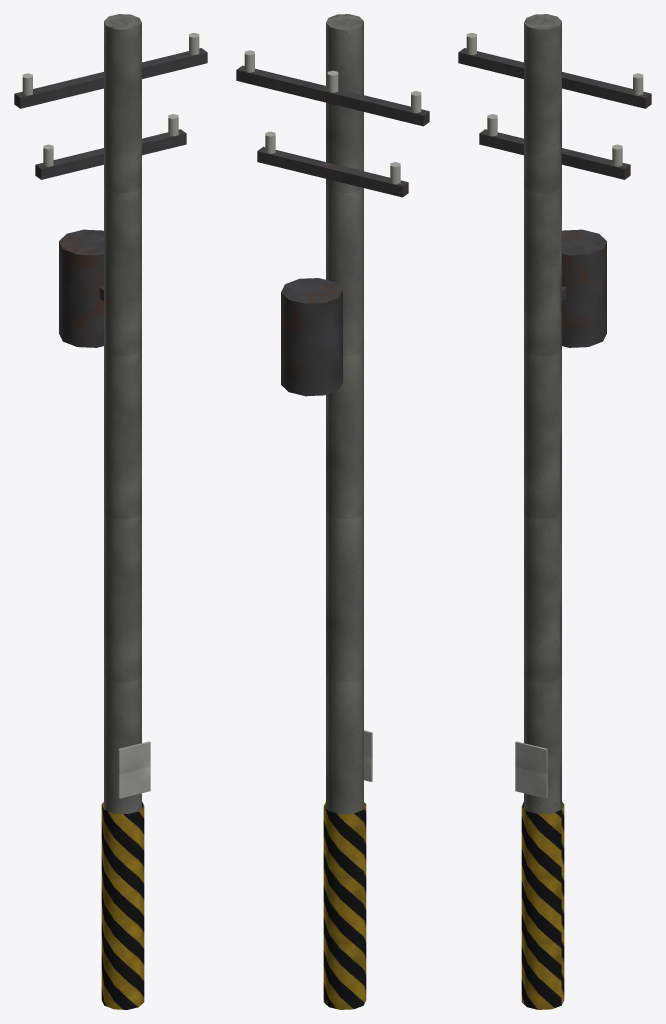
File: utility_pole.glb
3 views of the same model, side by side, from view 1: azimuth 30°, elevation 25°; view 2: azimuth 150°, elevation 25°; view 3: azimuth 330°, elevation 25° (orthographic).
Parts seen in each view (by area): view 1: utility_pole; view 2: utility_pole; view 3: utility_pole.
Boxes of the visible parts, <box> form: utility_pole: <box>14,14,207,1009</box>; utility_pole: <box>236,14,429,1009</box>; utility_pole: <box>458,14,651,1009</box>.
Bounding box in the file's own units: 1.8 × 9 × 0.9973.
5 materials, 5 textured.
